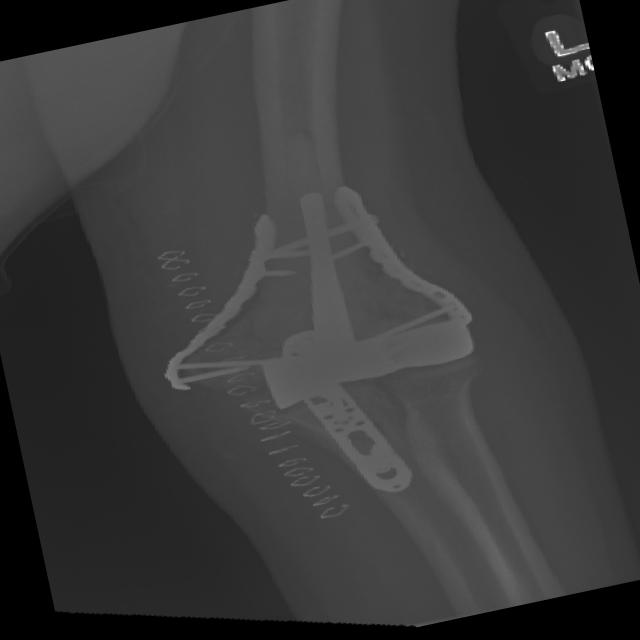elbow positive: (333, 235, 475, 362), (178, 289, 316, 410)
